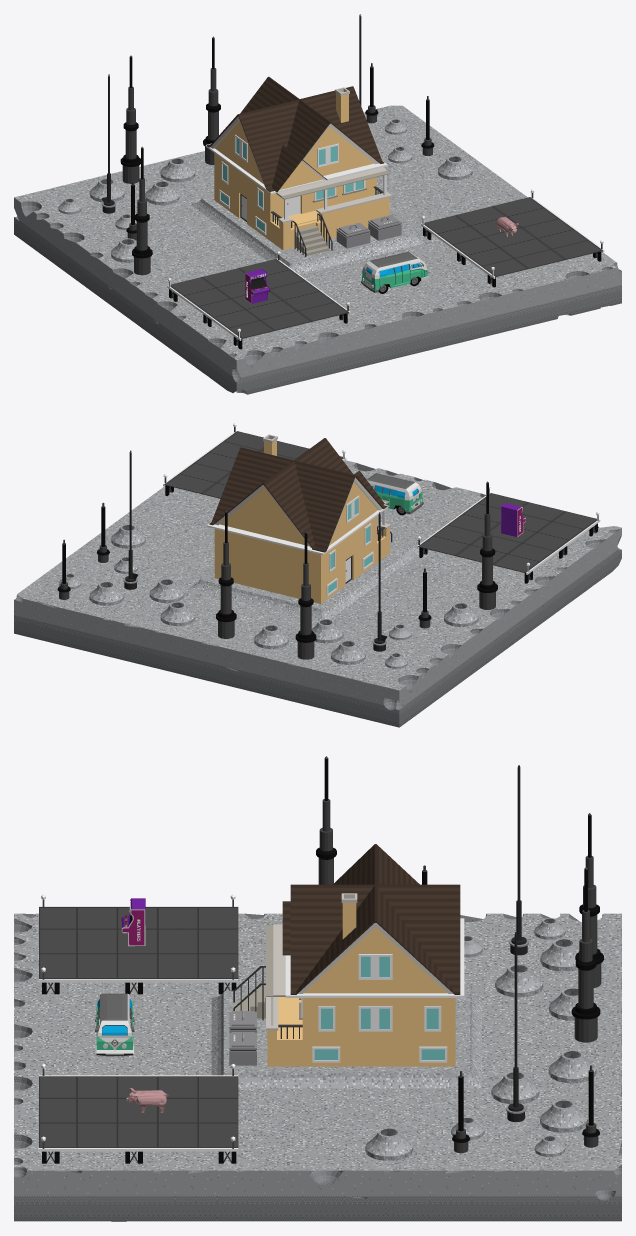
3 renders of one model, top to bottom at view 1: azimuth 30°, elevation 25°; view 2: azimuth 150°, elevation 25°; view 3: azimuth 270°, elevation 25°, orthographic. The views are drawn at different scales.
Visible parts, largest first — view 1: Cube.027, Cube.235, Cube.026, Cube.025, Cube.028, VEHICLES_VAN, Cylinder.020, Cylinder.021, Cylinder.017, OBJRANDOM_ARCADE, Cube.029, Cube.030 (+4 smaller); view 2: Cube.027, Cube.235, Cube.025, Cube.028, Cube.026, VEHICLES_VAN, Cylinder.020, Cylinder.021, Cylinder.017, OBJRANDOM_ARCADE, Cylinder.031, Cylinder.028 (+8 smaller); view 3: Cube.027, Cube.235, Cube.026, Cube.025, Cube.028, Cylinder.017, VEHICLES_VAN, Cylinder.020, Cylinder.021, Cylinder.033, Cylinder.031, Cylinder.029 (+11 smaller).
Boxes of the visible parts, bbox=[...] form: Cube.027: bbox=[14, 105, 621, 394]; Cube.235: bbox=[205, 76, 392, 256]; Cube.026: bbox=[421, 189, 604, 287]; Cube.025: bbox=[167, 251, 350, 349]; Cube.028: bbox=[191, 195, 424, 274]; VEHICLES_VAN: bbox=[361, 251, 428, 293]; Cylinder.020: bbox=[120, 55, 140, 183]; Cylinder.021: bbox=[132, 146, 152, 275]; Cylinder.017: bbox=[203, 36, 220, 164]; OBJRANDOM_ARCADE: bbox=[245, 268, 269, 303]; Cube.029: bbox=[336, 222, 370, 248]; Cube.030: bbox=[368, 215, 401, 240]; Cube.027: bbox=[14, 460, 621, 727]; Cube.235: bbox=[206, 434, 392, 603]; Cube.025: bbox=[417, 485, 600, 583]; Cube.028: bbox=[190, 538, 419, 620]; Cube.026: bbox=[163, 423, 346, 498]; VEHICLES_VAN: bbox=[366, 473, 423, 515]; Cylinder.020: bbox=[295, 531, 316, 659]; Cylinder.021: bbox=[477, 481, 497, 609]; Cylinder.017: bbox=[216, 510, 236, 638]; OBJRANDOM_ARCADE: bbox=[501, 502, 525, 537]; Cylinder.031: bbox=[89, 581, 124, 605]; Cylinder.028: bbox=[331, 640, 365, 664]; Cube.027: bbox=[14, 913, 621, 1221]; Cube.235: bbox=[233, 844, 464, 1066]; Cube.026: bbox=[39, 1064, 238, 1163]; Cube.025: bbox=[39, 894, 238, 994]; Cube.028: bbox=[211, 990, 481, 1088]; Cylinder.017: bbox=[571, 867, 600, 1042]; VEHICLES_VAN: bbox=[95, 993, 134, 1056]; Cylinder.020: bbox=[575, 813, 603, 987]; Cylinder.021: bbox=[316, 756, 336, 884]; Cylinder.033: bbox=[365, 1127, 413, 1160]; Cylinder.031: bbox=[540, 1099, 587, 1132]; Cylinder.029: bbox=[548, 1050, 596, 1083].
Bounding box in the file's own units: 4000 × 1772 × 4000.
43 materials, 4 textured.
